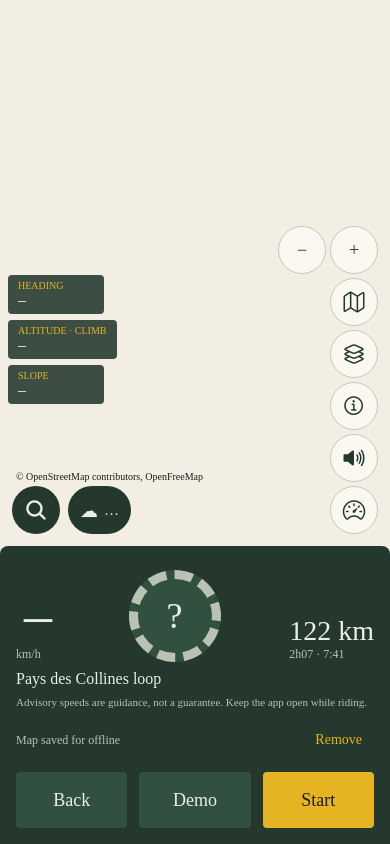
Test case: a saved map is found again at launch, and can be removed
Expected: the text "Map saved for offline" is shown, [16, 732, 120, 748]
Click the button with aria-label "Remove the offline map" at (339, 740), box [303, 716, 374, 764]
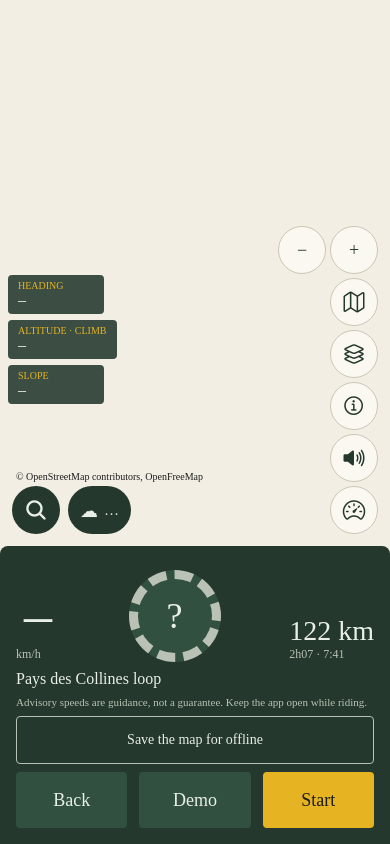
Now the button labelled "Save the map for offline" is shown, box [16, 716, 374, 764]
